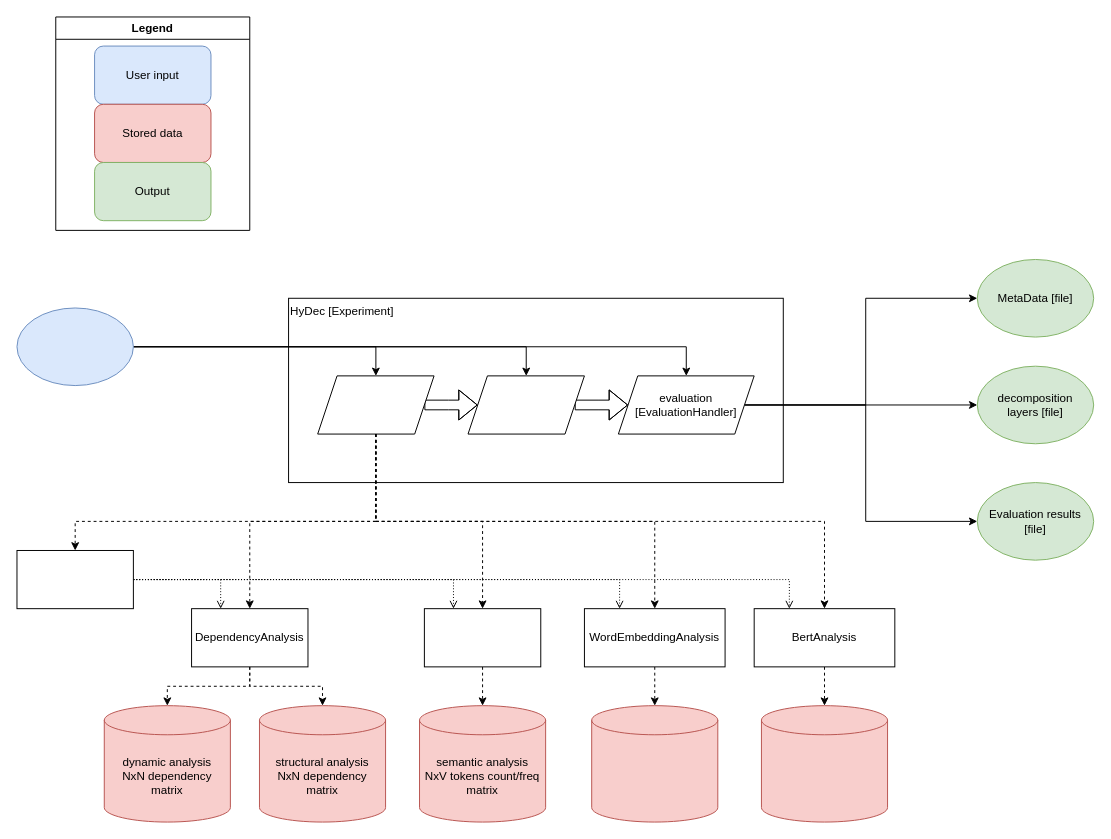
The diagram is 1111 pixels wide and 839 high, and some of its shapes have lost their labels. Each missing label, with the centre of its shape:
"analysis" belongs at point 375,404.
"BERT analysis NxV text matrix" belongs at point 824,763.
"clustering [HybridDecomp]" belongs at point 525,404.
"Hyper-parameters [input or file]" belongs at point 74,346.
"SumAnalysis" belongs at point 74,579.
"TFIDFAnalysis" belongs at point 482,637.
"word embedding analysis NxV text matrix" belongs at point 654,763.
